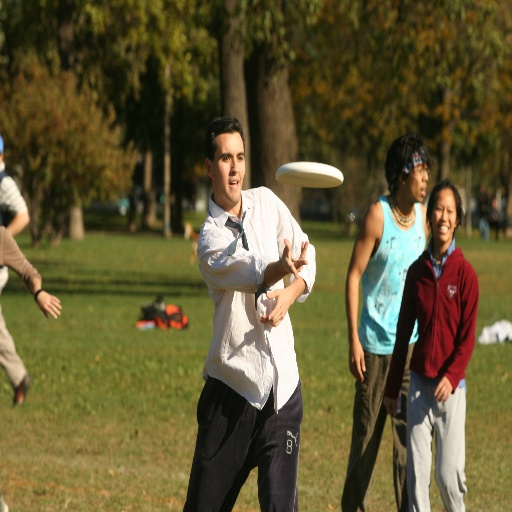hand: (278, 236, 309, 281), (260, 287, 287, 326), (36, 289, 62, 322), (347, 338, 365, 382), (433, 376, 453, 403), (383, 397, 398, 417)
